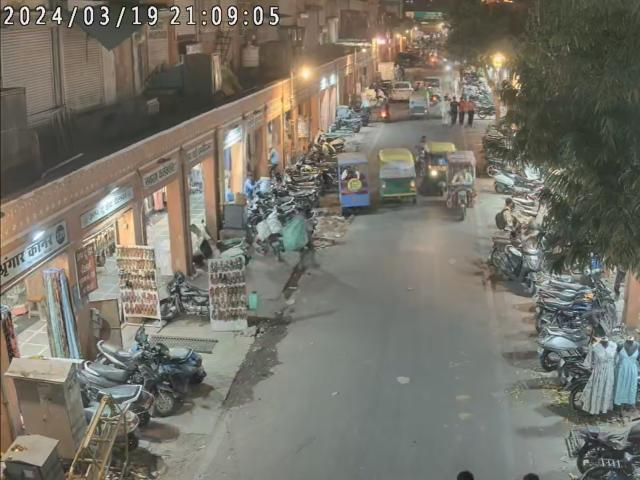auto: (334, 152, 371, 215), (376, 145, 416, 201), (444, 153, 476, 220)
motorbike: (158, 276, 218, 323), (252, 214, 286, 262)
scooty: (82, 356, 176, 411), (130, 326, 209, 386), (539, 312, 611, 370), (77, 377, 152, 428), (501, 241, 542, 290)
